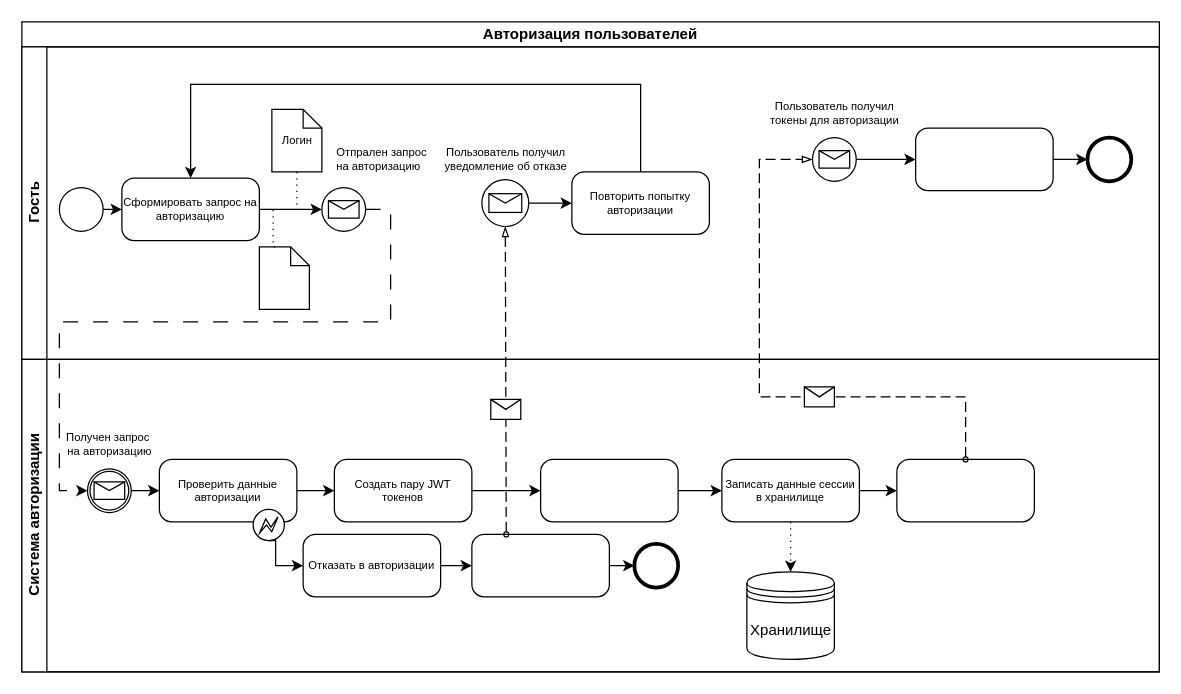
Image size: 1181x694. Some labels were removed from this diagram. The centre of each missing label's shape, as x and y in pixels:
Запросить ресурс: (983,159)
Пароль: (283,277)
Передать токены пользователю: (965,490)
Создать сессию для пользователя: (608,490)
Уведомить пользователя об отказе: (540,565)
